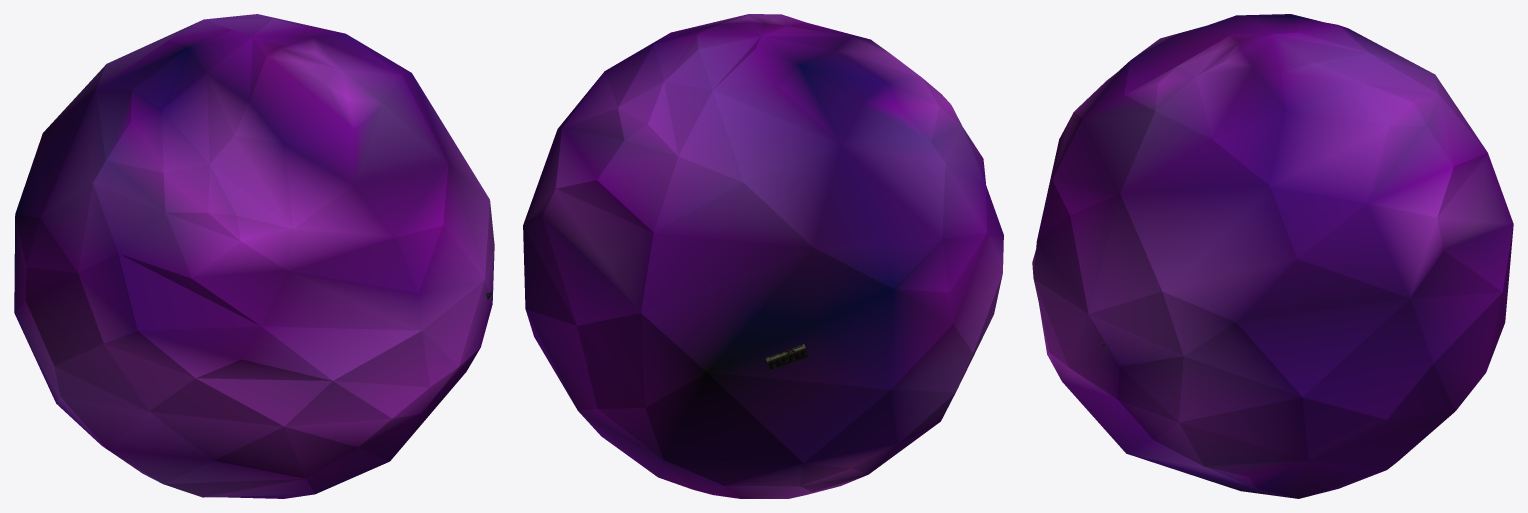
3 renders of one model, left to right at view 1: azimuth 30°, elevation 25°; view 2: azimuth 150°, elevation 25°; view 3: azimuth 270°, elevation 25°, orthographic.
Visible parts, largest first — view 1: part5; view 2: part5, part1; view 3: part5.
Boxes of the visible parts, x1,y1,x2,y2 form: part5: (14, 14, 494, 498); part5: (523, 14, 1003, 498); part1: (765, 344, 808, 370); part5: (1032, 14, 1513, 498).
Size of the model in its own units: 12.82 by 13.03 by 12.81.
Materials: 50 (46 with a texture image).
